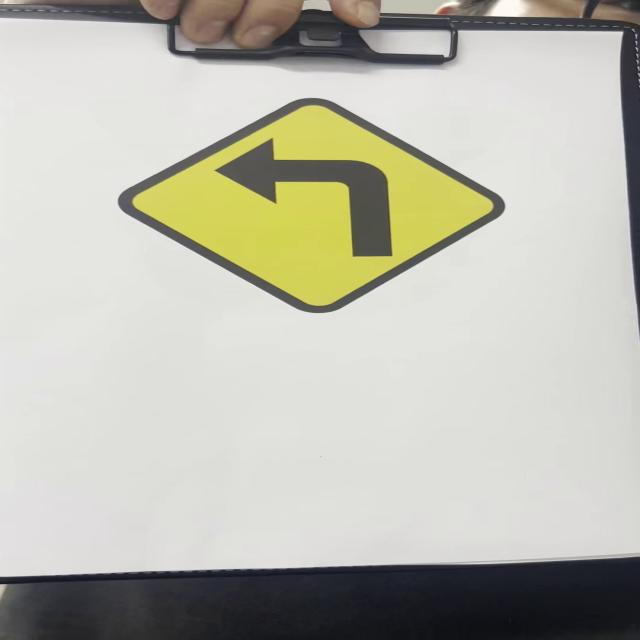left: (119, 92, 493, 314)
